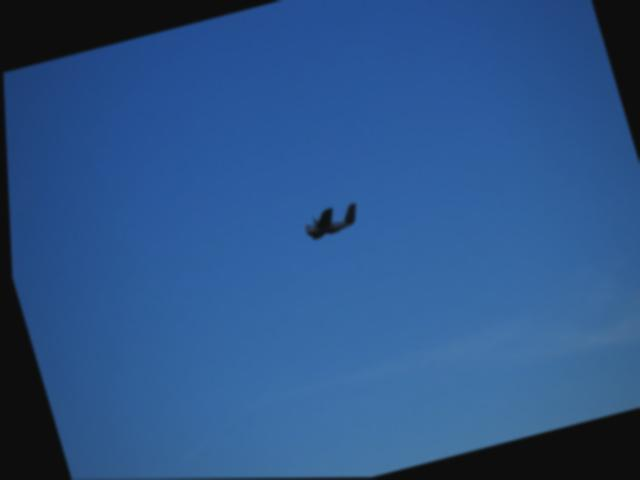plane: (300, 202, 359, 244)
